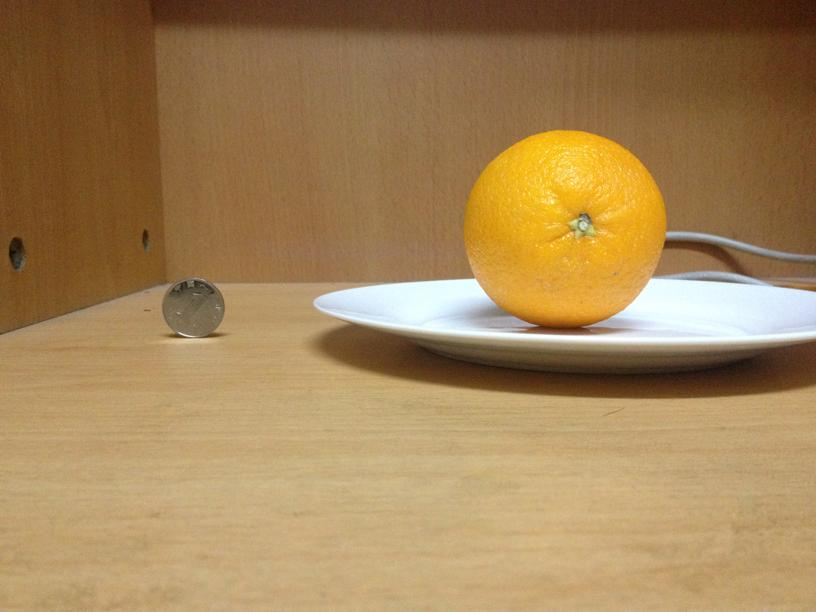coin: (163, 278, 226, 337)
orange: (461, 130, 665, 327)
